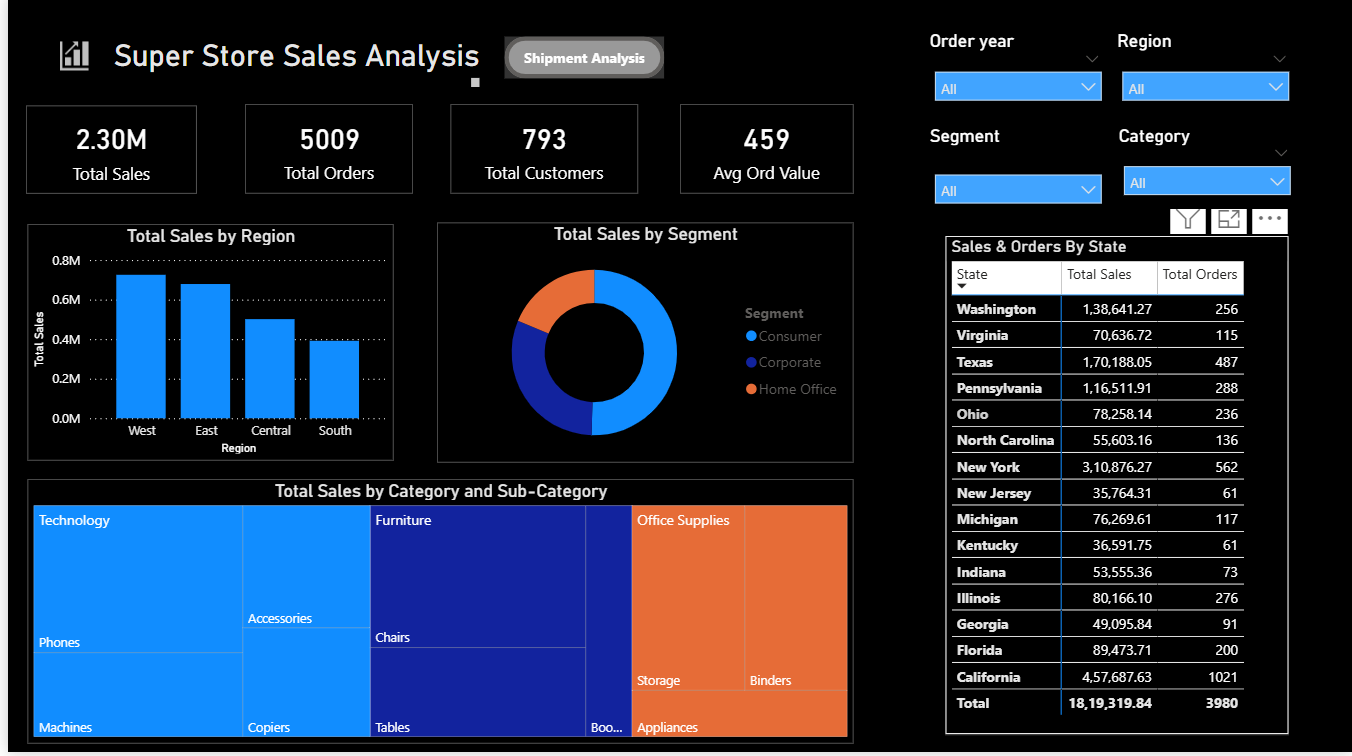

What the dashboard file says about the page in this screenshot:
{"tool":"powerbi","page":{"name":"Store Analysis","canvas":[1280,720],"ordinal":0},"visuals":[{"type":"card","fields":{"Values":["Sample - Superstore.Total Sales"]},"box":[17.5,103.8,162.5,83.8],"z":0},{"type":"card","fields":{"Values":["Sample - Superstore.Total Orders"]},"box":[225,103.3,160,85],"z":1000},{"type":"card","fields":{"Values":["Sample - Superstore.Avg Ord Value"]},"box":[640,103.3,165,85],"z":2000},{"type":"card","fields":{"Values":["Sample - Superstore.Total Customers"]},"box":[421.7,103.3,178.3,85],"z":3000},{"type":"clusteredColumnChart","fields":{"Category":["Sample - Superstore.Region"],"Y":["Sample - Superstore.Total Sales"]},"box":[18.3,216.7,348.3,225],"z":4000},{"type":"donutChart","fields":{"Category":["Sample - Superstore.Segment"],"Y":["Sample - Superstore.Total Sales"]},"box":[408.3,215,396.7,228.3],"z":5000},{"type":"treemap","fields":{"Values":["Sample - Superstore.Total Sales"],"Group":["Sample - Superstore.Category"],"Details":["Sample - Superstore.Sub-Category"]},"box":[18.3,460,786.7,251.7],"z":6000},{"type":"pivotTable","title":"Sales & Orders By State","fields":{"Rows":["Sample - Superstore.State"],"Values":["Sample - Superstore.Total Sales","Sample - Superstore.Total Orders"]},"box":[893.3,228.3,326.7,475],"z":7000},{"type":"slicer","title":"Order year","fields":{"Values":["Sample - Superstore.Ship Mode"]},"box":[873.2,33.1,178.6,80],"z":8000},{"type":"textbox","title":"Super Store Sales Analysis","box":[96.9,40.4,358.6,51.4],"z":8000,"group":"g1"},{"type":"slicer","title":"Region","fields":{"Values":["Sample - Superstore.Region"]},"box":[1051.8,33.1,178.6,80],"z":9000},{"type":"slicer","title":"Segment","fields":{"Values":["Sample - Superstore.Segment"]},"box":[873.2,123.1,178.6,80],"z":10000},{"type":"slicer","title":"Category","fields":{"Values":["Sample - Superstore.Category"]},"box":[1053.2,123.1,178.6,80],"z":11000},{"type":"group","id":"g1","title":"Group 1","box":[39.3,32,415,60],"z":12000},{"type":"image","box":[39.3,32,48.6,51.4],"z":13000,"group":"g1"},{"type":"actionButton","box":[473.4,38.4,152.3,39.8],"z":13000}]}

Visuals, with their boxes in screenshot pixels (x1, y1, x2, y2), scaled from the page's 1280x720 canvas onto the 1352x756 screenshot:
card - Sample - Superstore.Total Sales: box=[18, 109, 190, 197]
card - Sample - Superstore.Total Orders: box=[238, 108, 407, 198]
card - Sample - Superstore.Avg Ord Value: box=[676, 108, 850, 198]
card - Sample - Superstore.Total Customers: box=[445, 108, 634, 198]
clusteredColumnChart - Sample - Superstore.Region x Sample - Superstore.Total Sales: box=[19, 228, 387, 464]
donutChart - Sample - Superstore.Segment x Sample - Superstore.Total Sales: box=[431, 226, 850, 465]
treemap - Sample - Superstore.Total Sales x Sample - Superstore.Category: box=[19, 483, 850, 747]
"Sales & Orders By State" pivotTable: box=[944, 240, 1289, 738]
"Order year" slicer: box=[922, 35, 1111, 119]
"Super Store Sales Analysis" textbox: box=[102, 42, 481, 96]
"Region" slicer: box=[1111, 35, 1300, 119]
"Segment" slicer: box=[922, 129, 1111, 213]
"Category" slicer: box=[1112, 129, 1301, 213]
"Group 1" group: box=[42, 34, 480, 97]
image: box=[42, 34, 93, 88]
actionButton: box=[500, 40, 661, 82]
